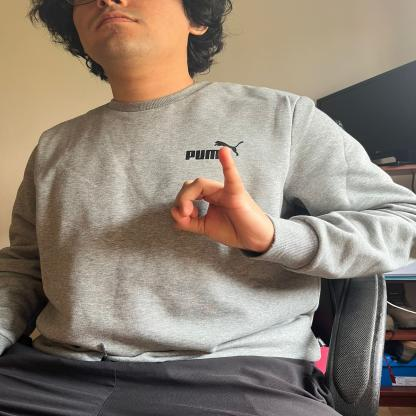D: (159, 145, 275, 249)
